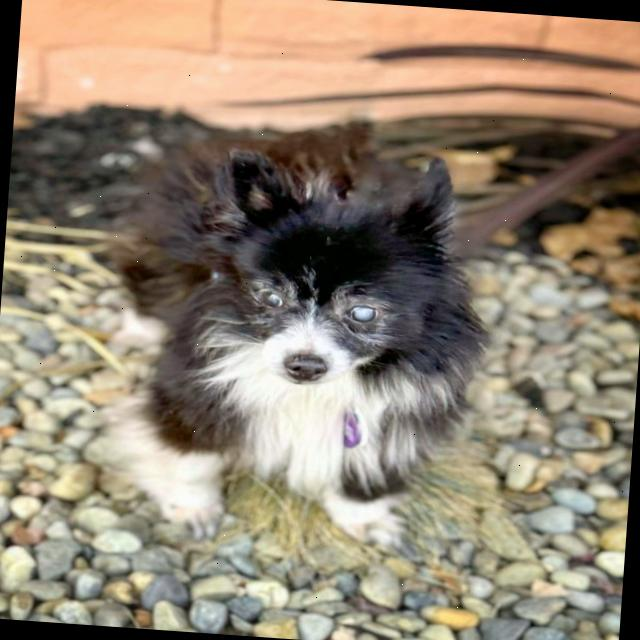pomeranian_dog: (185, 128, 470, 418)
